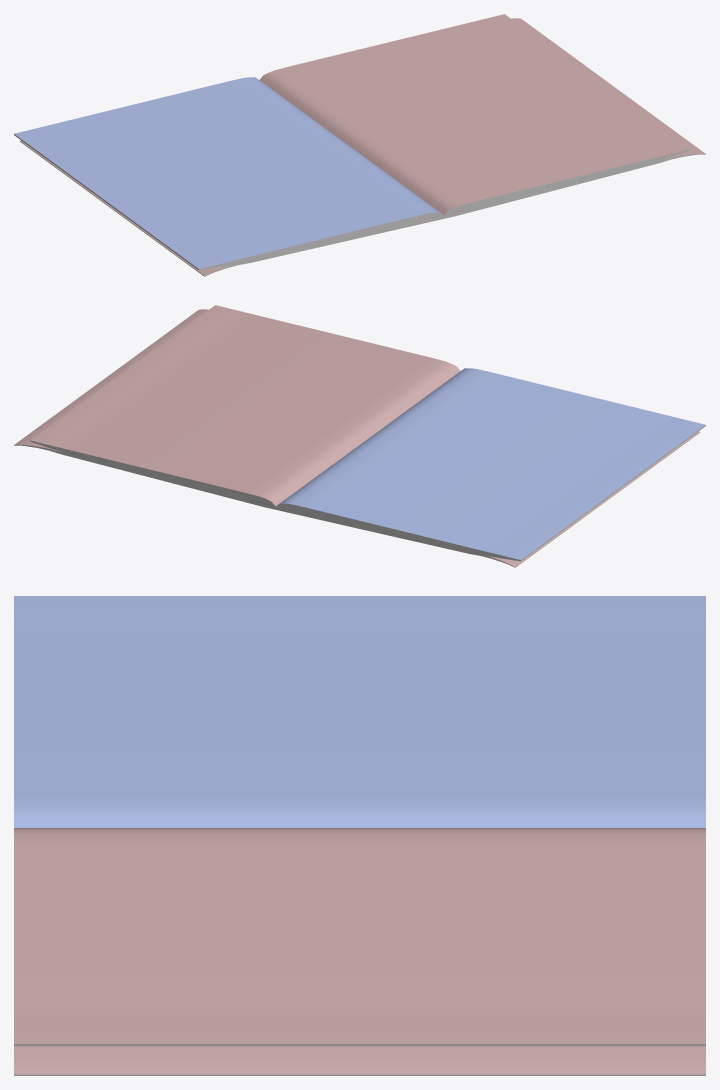
Rendered from Diario.fbx.
The picture shows the model from 3 angles, top to bottom: view 1: azimuth 30°, elevation 25°; view 2: azimuth 150°, elevation 25°; view 3: azimuth 270°, elevation 25°; orthographic projection. The views are drawn at different scales.
Parts seen in each view (by area): view 1: Diario; view 2: Diario; view 3: Diario.
Part boxes in pixels (box(x1,y1,x2,y2)): Diario: box(14, 14, 705, 276); Diario: box(14, 305, 705, 567); Diario: box(14, 596, 705, 1075).
Size of the model in its own units: 2.5 by 0.0461 by 1.58.
